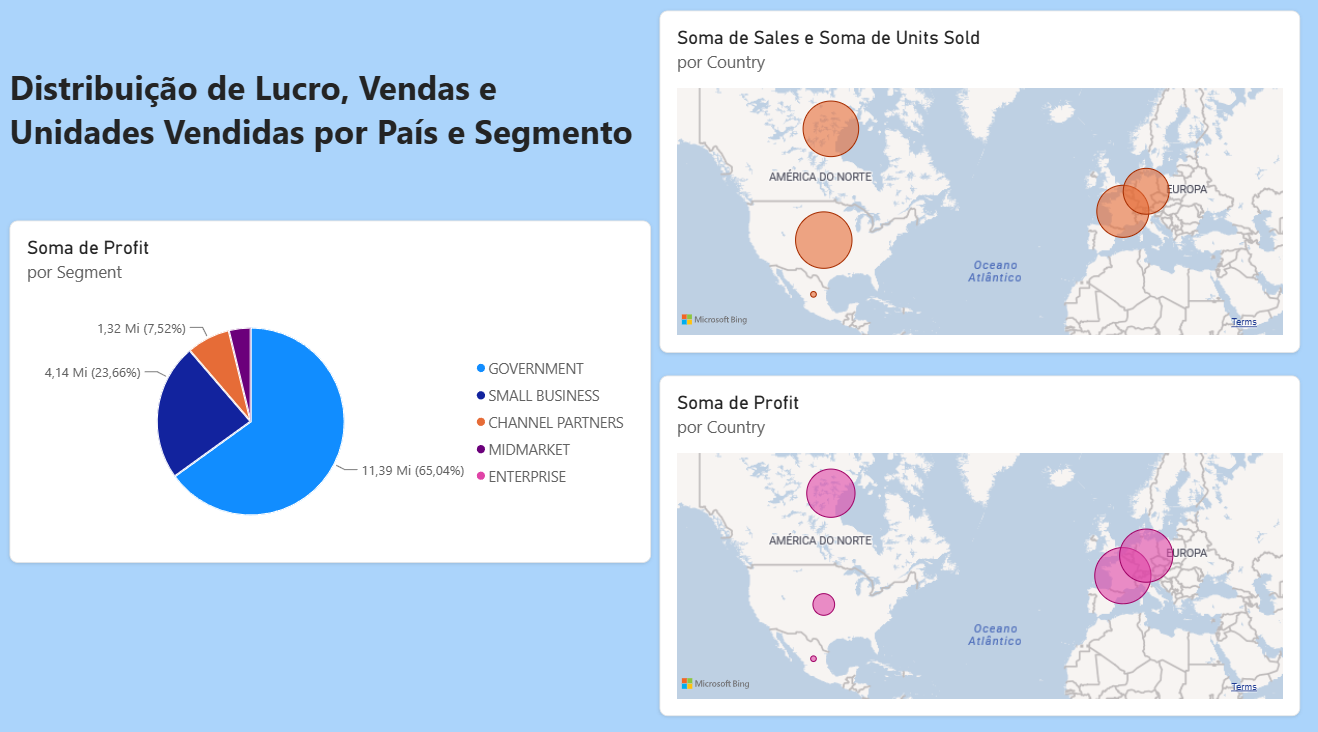

Layout of this report page (visuals, bound fields, positions):
{"tool":"powerbi","page":{"name":"Página 3","canvas":[1280,720],"ordinal":2},"visuals":[{"type":"map","fields":{"Category":["financials.Country"],"Size":["Sum(financials.Sales)"]},"box":[639.5,17.1,618.8,330.2],"z":0},{"type":"map","fields":{"Category":["financials.Country"],"Size":["Sum(financials.Profit)"]},"box":[639.5,369.3,618.8,328.9],"z":1000},{"type":"pieChart","fields":{"Category":["financials.Segment"],"Y":["Sum(financials.Profit)"]},"box":[12.2,220.1,619,330],"z":2000},{"type":"textbox","box":[12.1,68.8,618.9,88.1],"z":3000}]}

Visuals, with their boxes in screenshot pixels (x1, y1, x2, y2), scaled from the page's 1280x720 canvas onto the 1318x732 screenshot:
map - financials.Country x Sum(financials.Sales): 658,17,1296,353
map - financials.Country x Sum(financials.Profit): 658,375,1296,710
pieChart - financials.Segment x Sum(financials.Profit): 13,224,650,559
textbox: 12,70,650,160
